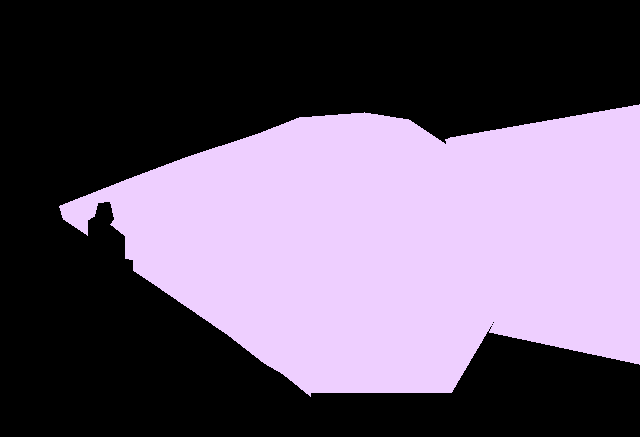Train: (59, 112, 501, 396), (445, 104, 639, 364)
